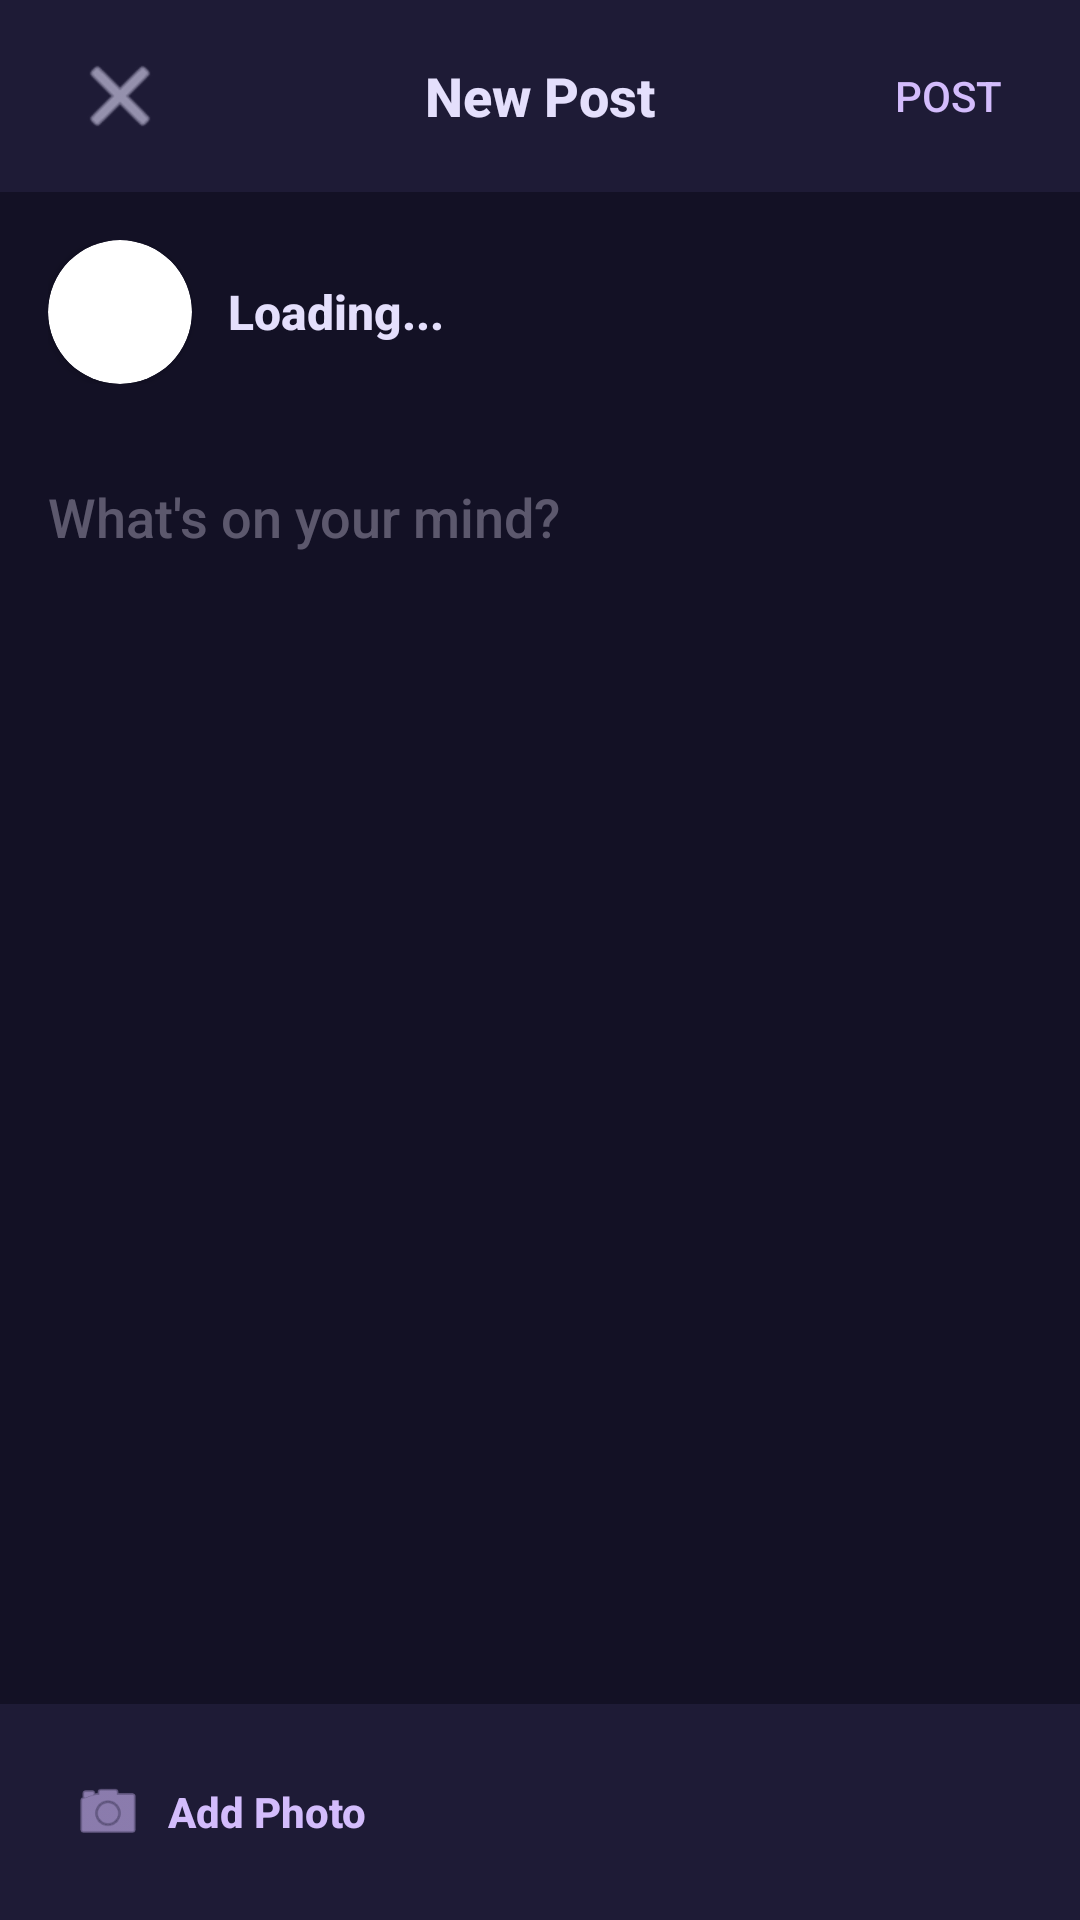

Screen size 1080*1920. Icon name, then its center in pixels as [x,y]:
camera: [108,1811]
close clear cancel: [120,96]
